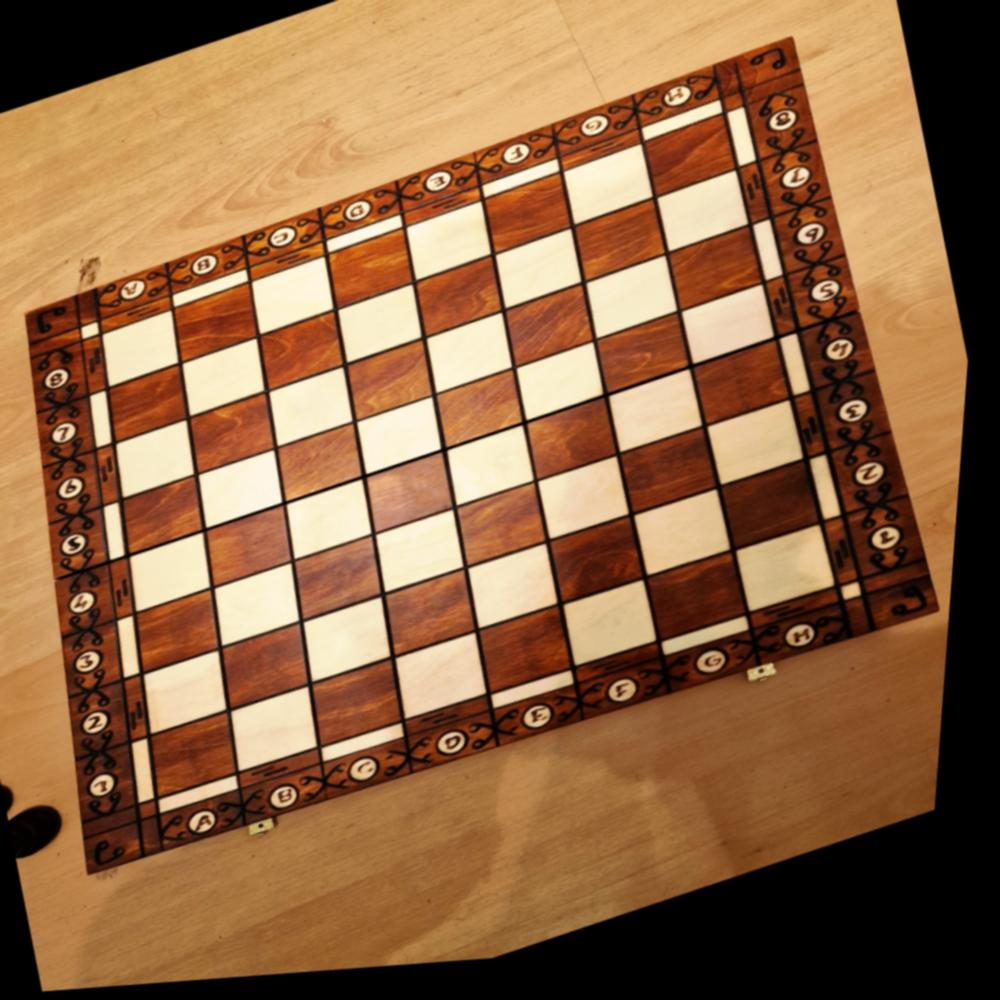chessboard-corners: (30, 48, 951, 879)
chessfield: (642, 498, 744, 589), (487, 610, 588, 701), (658, 565, 762, 653), (403, 637, 500, 731), (390, 573, 488, 666), (747, 536, 850, 624), (569, 589, 668, 680), (625, 439, 727, 525), (735, 473, 833, 561), (474, 552, 573, 639), (714, 412, 817, 495), (674, 234, 772, 321), (590, 264, 687, 351), (699, 352, 798, 437), (559, 524, 653, 613), (614, 378, 711, 463), (661, 178, 754, 266), (576, 206, 671, 292), (313, 603, 404, 691), (431, 317, 523, 404), (302, 541, 395, 627), (648, 124, 742, 209), (686, 295, 783, 377), (233, 629, 323, 717), (511, 292, 606, 375), (464, 491, 557, 575), (533, 404, 625, 488), (241, 691, 331, 776), (196, 393, 287, 477), (291, 485, 382, 569), (455, 432, 546, 516), (384, 516, 475, 600), (567, 153, 659, 236), (162, 715, 249, 802), (354, 345, 444, 429), (423, 259, 511, 344), (277, 369, 365, 454), (214, 508, 303, 592), (497, 237, 589, 318), (326, 665, 411, 752), (371, 460, 464, 539), (154, 653, 240, 738), (226, 568, 313, 652), (606, 325, 695, 407), (550, 468, 640, 549), (175, 284, 266, 364), (147, 594, 233, 678), (267, 313, 354, 396), (489, 181, 577, 263), (524, 349, 612, 430), (121, 419, 205, 503), (410, 209, 496, 290), (346, 289, 432, 370), (365, 404, 452, 484), (256, 259, 341, 340), (139, 535, 222, 617), (188, 341, 276, 418), (446, 378, 532, 456), (211, 455, 297, 532), (288, 427, 371, 506), (334, 234, 417, 312), (132, 478, 212, 558), (115, 365, 196, 441), (109, 312, 187, 388)
innerChessboard: (110, 122, 848, 804)
